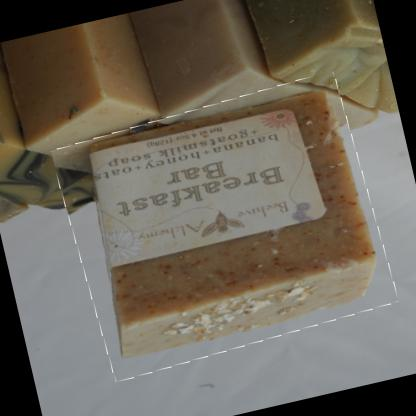soap: (51, 71, 398, 380)
